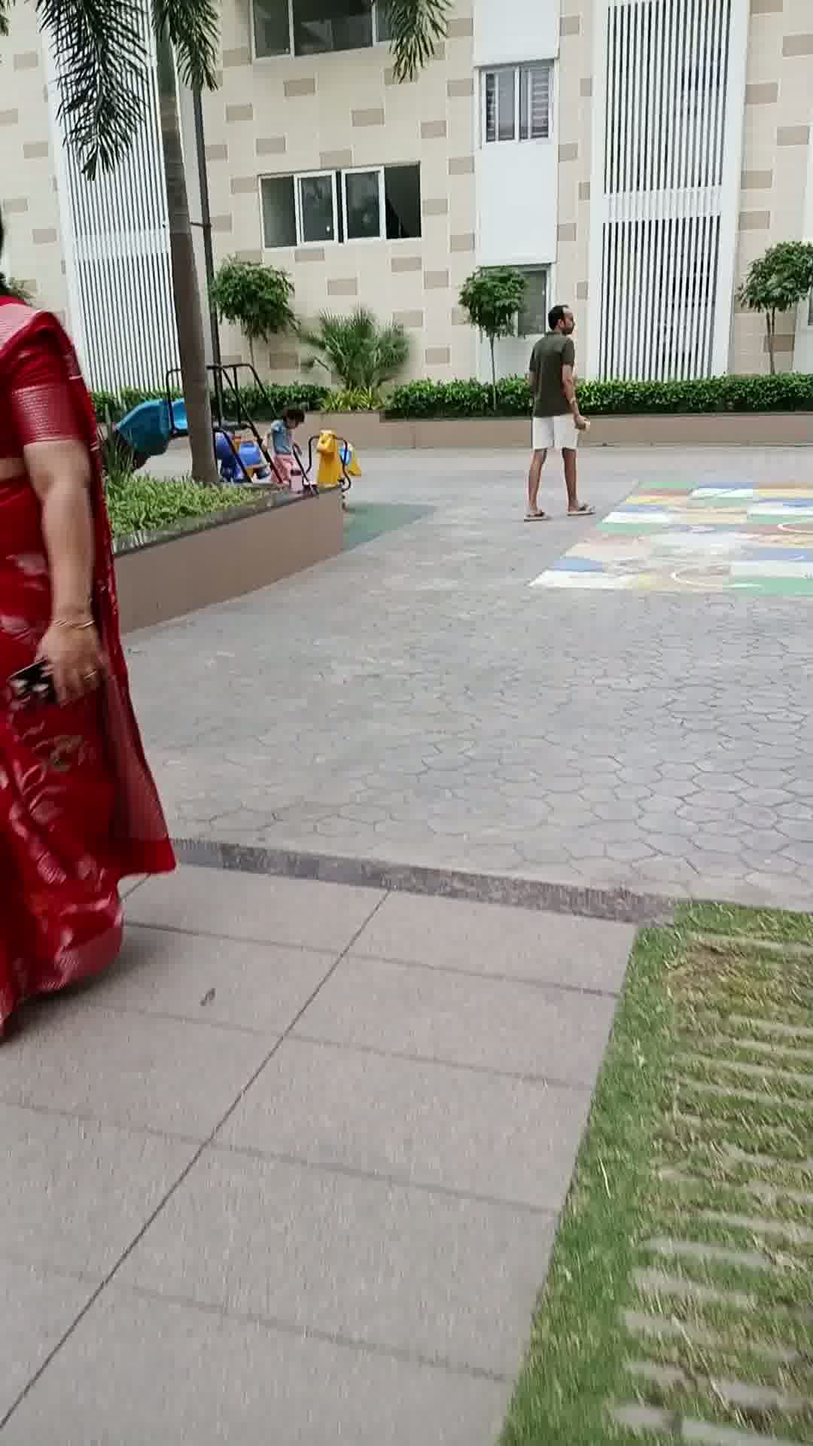person: (0, 213, 188, 1093), (512, 293, 597, 524)
tree: (34, 6, 276, 478), (728, 205, 813, 427), (450, 233, 541, 416), (205, 236, 293, 410)
